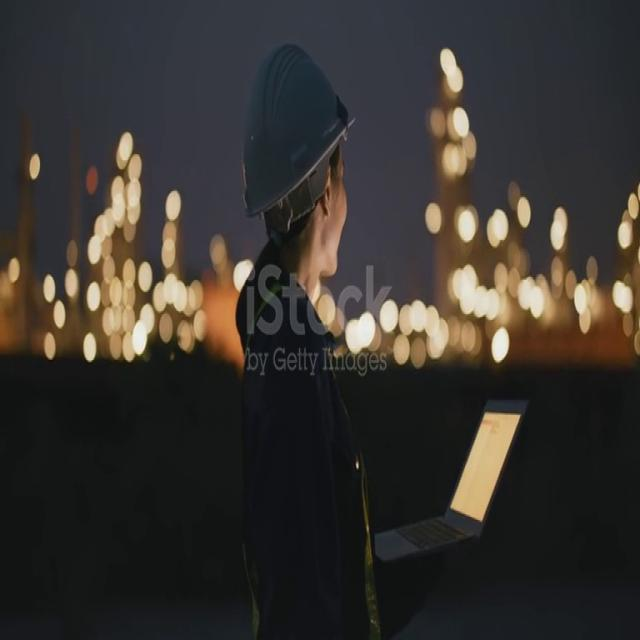capacete: (224, 36, 363, 245)
